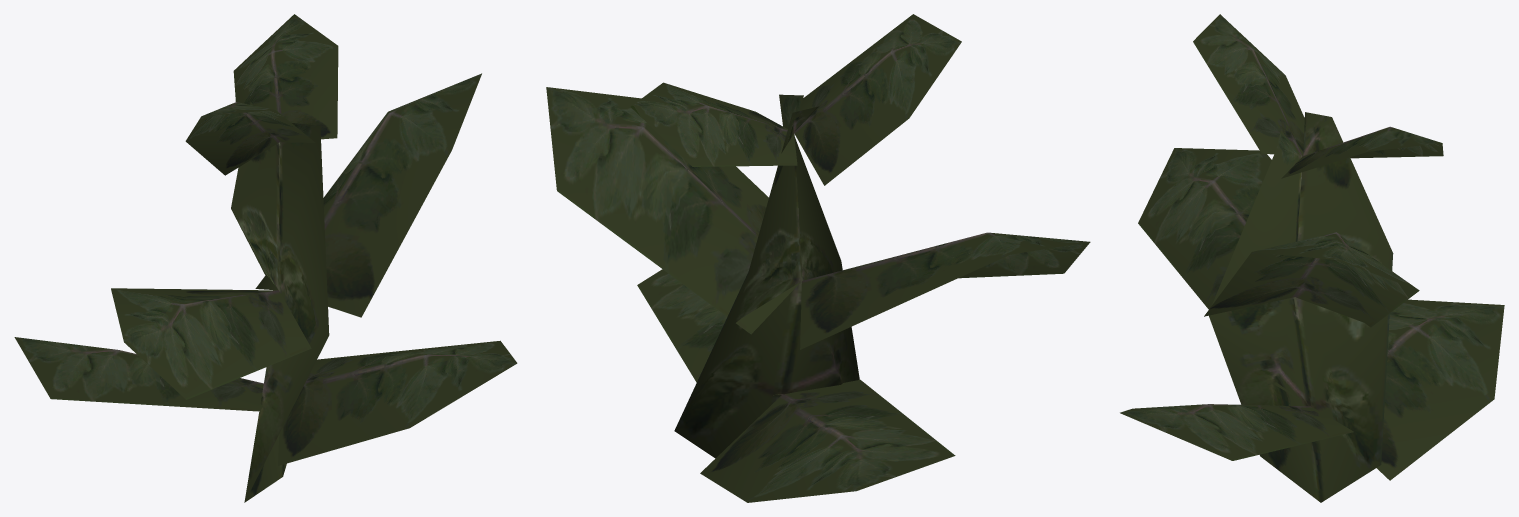
File: prop_saplin_001_b.FBX
3 renders of one model, left to right at view 1: azimuth 30°, elevation 25°; view 2: azimuth 150°, elevation 25°; view 3: azimuth 270°, elevation 25°, orthographic. The views are drawn at different scales.
Visible parts, largest first — view 1: prop_saplin_001_b; view 2: prop_saplin_001_b; view 3: prop_saplin_001_b.
Boxes of the visible parts, box(x1,y1,x2,y2) form: prop_saplin_001_b: box(14, 14, 517, 502); prop_saplin_001_b: box(546, 14, 1090, 502); prop_saplin_001_b: box(1120, 14, 1504, 502).
Size of the model in its own units: 1.6 by 1.22 by 1.5.
Materials: 1 (1 with a texture image).
